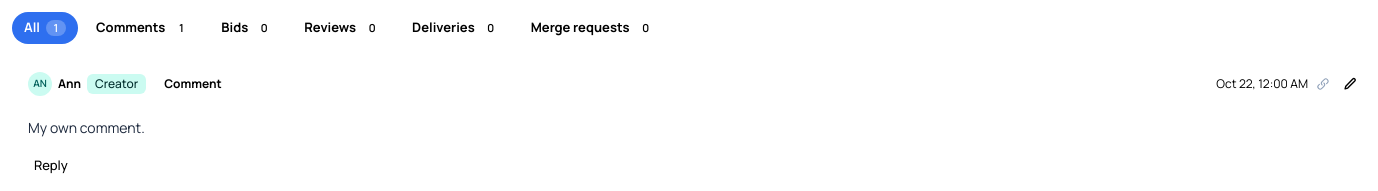
comment actions (pencil) › is a disclosure, not an ARIA menu, offering the viewer's Edit and Delete
The image size is (1378, 191).
Click the button named "Comment actions". click: x=1350, y=84
box: [1338,72,1362,96]
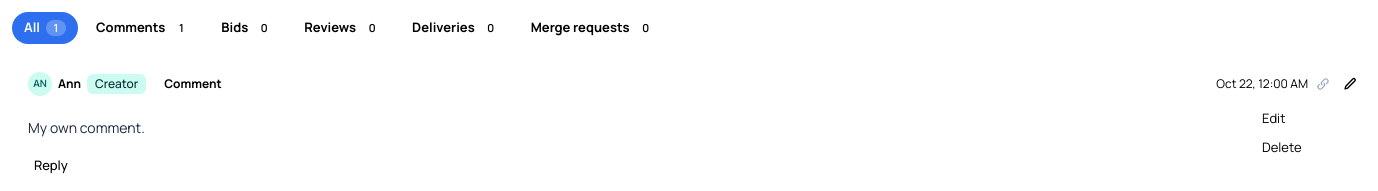
Expected: the button "Edit" is shown, [1250,104,1362,133]
Expected: the button "Delete" is shown, [1250,133,1362,163]
